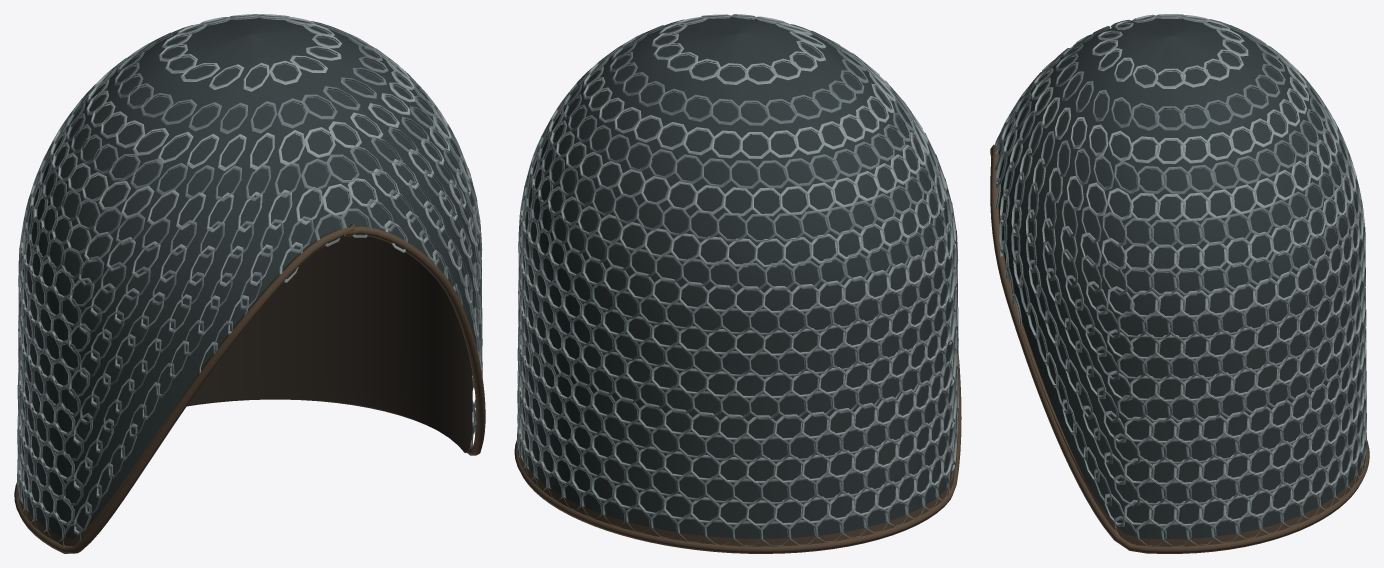
The model's file is iron_coif.glb.
3 views of the same model, side by side, from view 1: azimuth 30°, elevation 25°; view 2: azimuth 150°, elevation 25°; view 3: azimuth 270°, elevation 25° (orthographic). The views are drawn at different scales.
Visible parts, largest first — view 1: iron_coif: dark woven coif undercap, iron_coif: supple dark fitted lining, iron_coif: interlinked weathered iron, iron_coif: alternating iron links, iron_coif: coif leather face binding; view 2: iron_coif: dark woven coif undercap, iron_coif: interlinked weathered iron, iron_coif: alternating iron links, iron_coif: coif leather face binding; view 3: iron_coif: dark woven coif undercap, iron_coif: interlinked weathered iron, iron_coif: alternating iron links, iron_coif: coif leather face binding.
Part boxes in pixels (<box>): iron_coif: dark woven coif undercap: <box>22,17,477,538</box>; iron_coif: supple dark fitted lining: <box>188,235,472,453</box>; iron_coif: interlinked weathered iron: <box>17,14,482,535</box>; iron_coif: alternating iron links: <box>17,21,482,545</box>; iron_coif: coif leather face binding: <box>14,223,485,553</box>; iron_coif: dark woven coif undercap: <box>522,17,952,538</box>; iron_coif: interlinked weathered iron: <box>517,14,958,526</box>; iron_coif: alternating iron links: <box>517,15,958,545</box>; iron_coif: coif leather face binding: <box>514,351,961,553</box>; iron_coif: dark woven coif undercap: <box>998,18,1361,539</box>; iron_coif: interlinked weathered iron: <box>994,14,1366,526</box>; iron_coif: alternating iron links: <box>994,18,1366,546</box>; iron_coif: coif leather face binding: <box>990,144,1369,553</box>.
Size of the model in its own units: 0.5916 by 0.6135 by 0.4978.
